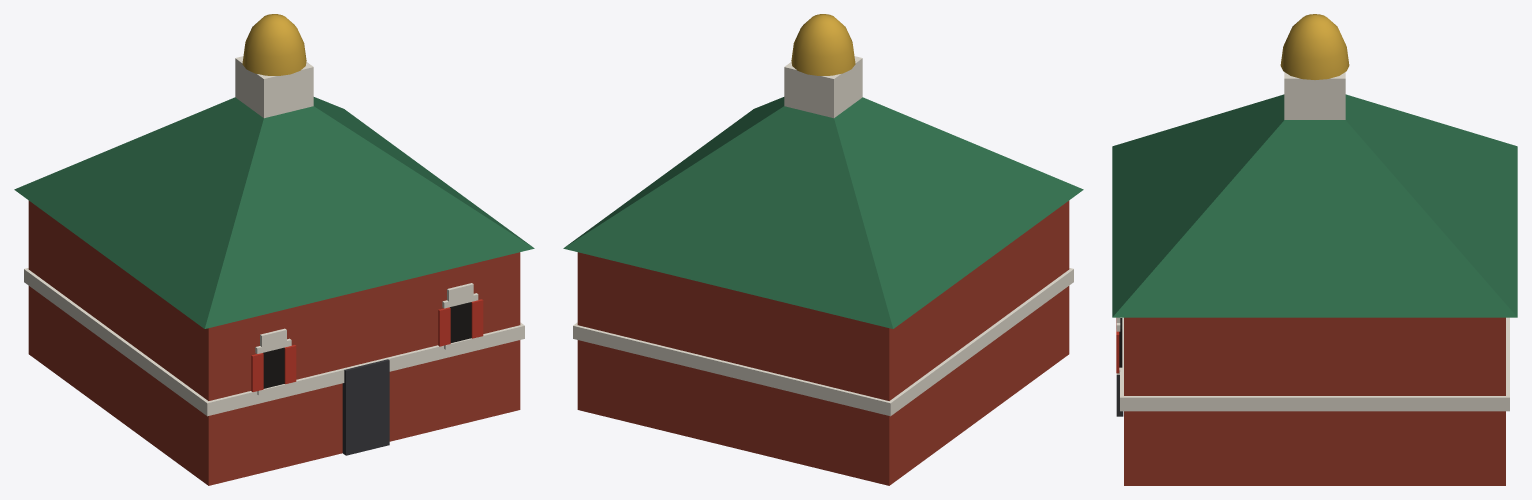
The model's file is mint.glb.
3 renders of one model, left to right at view 1: azimuth 30°, elevation 25°; view 2: azimuth 150°, elevation 25°; view 3: azimuth 270°, elevation 25°, orthographic. The views are drawn at different scales.
Parts seen in each view (by area): view 1: Mint; view 2: Mint; view 3: Mint.
Part boxes in pixels (x1,y1,x2,y2): Mint: [14, 14, 534, 485]; Mint: [563, 14, 1083, 485]; Mint: [1112, 14, 1517, 485].
Bounding box in the file's own units: 10.6 × 11.24 × 10.6.
